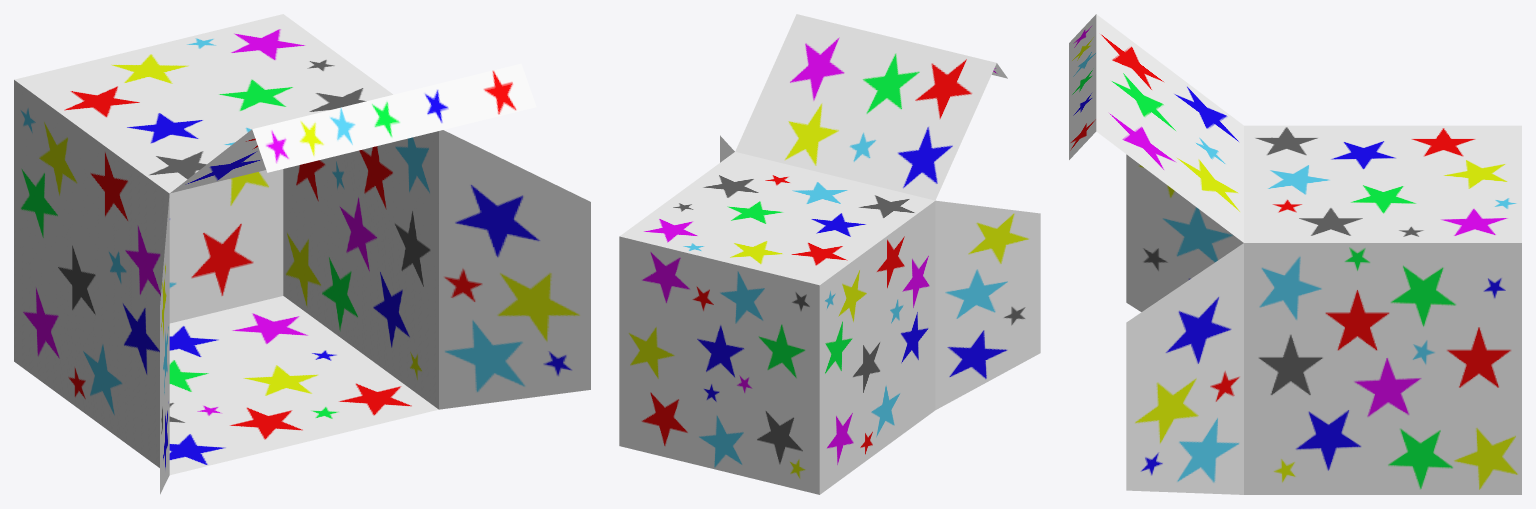
Rendered from DiscoEnd.FBX.
3 views of the same model, side by side, from view 1: azimuth 30°, elevation 25°; view 2: azimuth 150°, elevation 25°; view 3: azimuth 270°, elevation 25° (orthographic). The views are drawn at different scales.
Visible parts, largest first — view 1: Box001; view 2: Box001; view 3: Box001.
Boxes of the visible parts, box(x1,y1,x2,y2) form: Box001: box(14, 14, 590, 494); Box001: box(619, 14, 1040, 494); Box001: box(1069, 14, 1521, 494).
Size of the model in its own units: 48 by 43.28 by 48.87.
1 material, 1 textured.
